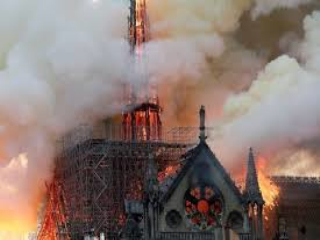fire: (115, 7, 167, 146)
smoke: (7, 1, 309, 160)
